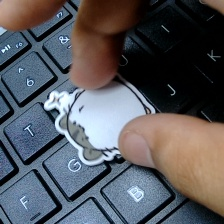mouse: (44, 69, 158, 171)
